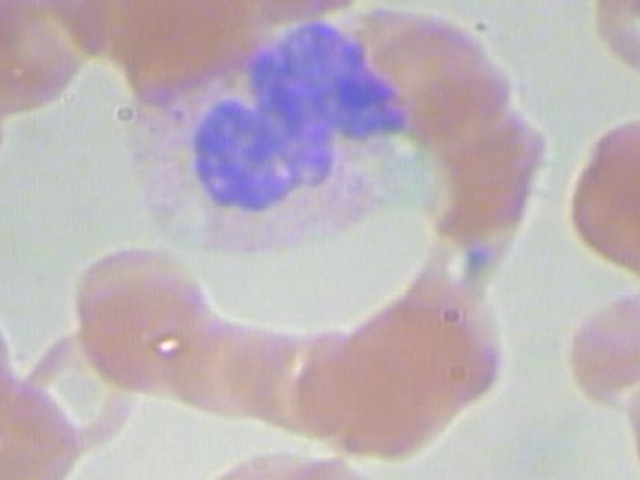RBC: (0, 318, 158, 456), (65, 235, 202, 376), (98, 268, 235, 409), (131, 286, 268, 427), (182, 299, 319, 440), (0, 0, 104, 117), (554, 279, 640, 412), (0, 371, 76, 480), (584, 0, 640, 92), (192, 441, 324, 480), (258, 450, 385, 480), (0, 55, 26, 195), (613, 370, 640, 480), (577, 0, 640, 38), (0, 0, 28, 73), (0, 277, 14, 412)
WBC: (101, 14, 394, 262)
